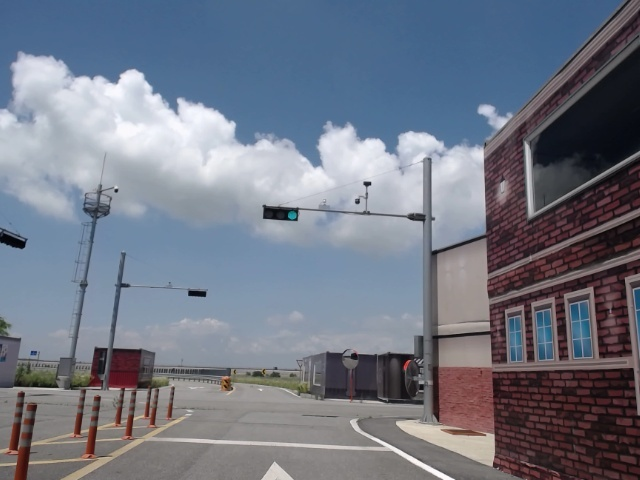green_3: (264, 205, 299, 223)
